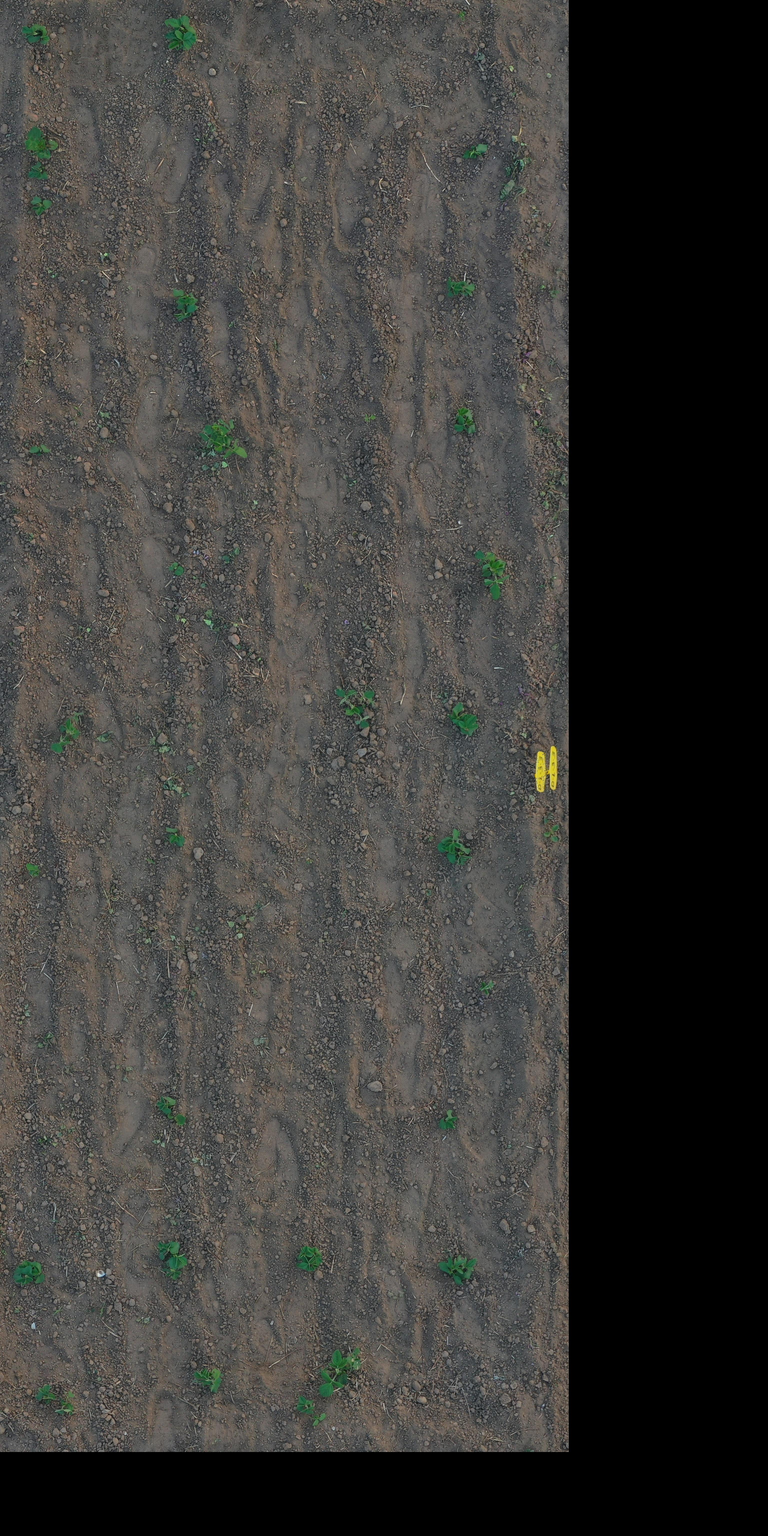s: (198, 418, 248, 460), (50, 710, 85, 754), (334, 688, 370, 729), (318, 1349, 348, 1398), (480, 559, 510, 601), (22, 125, 59, 159), (437, 1256, 463, 1286), (163, 30, 196, 51), (164, 15, 196, 35), (440, 828, 464, 853), (54, 1389, 76, 1416), (168, 1241, 188, 1270), (447, 701, 468, 726), (173, 303, 200, 322), (457, 1254, 477, 1279), (20, 23, 43, 44), (30, 195, 53, 216), (458, 714, 479, 737), (161, 1260, 185, 1280), (436, 842, 457, 864), (13, 1265, 34, 1287), (34, 1384, 57, 1404), (454, 414, 476, 434), (438, 1109, 458, 1131), (171, 288, 200, 303), (462, 144, 489, 160), (165, 826, 185, 847), (294, 1256, 319, 1272), (446, 278, 467, 297), (155, 1096, 176, 1115), (474, 549, 497, 566), (452, 1256, 468, 1280), (28, 161, 48, 180), (157, 1240, 176, 1260), (456, 844, 473, 866), (208, 1368, 222, 1394), (296, 1395, 314, 1414), (360, 690, 377, 710), (307, 1246, 324, 1266), (458, 279, 476, 297), (29, 1261, 45, 1280), (454, 407, 474, 422), (478, 979, 495, 995), (25, 863, 42, 878), (297, 1245, 313, 1260), (192, 1368, 208, 1383), (28, 444, 51, 454), (215, 434, 234, 446), (168, 562, 184, 576), (200, 1369, 213, 1386), (40, 25, 50, 45), (312, 1413, 326, 1426), (177, 297, 196, 306), (17, 1259, 34, 1269), (317, 1366, 329, 1374)
